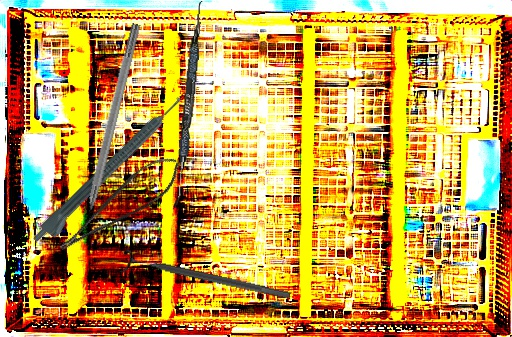Fixation Ring: (118, 247, 293, 309)
Handpiece: (29, 93, 192, 252)
Hook Surgical: (76, 22, 142, 237)
Micro Scissor: (45, 149, 190, 256)
Spatula Surgical: (173, 0, 204, 210)
Surgical Spoon: (182, 21, 201, 141)
